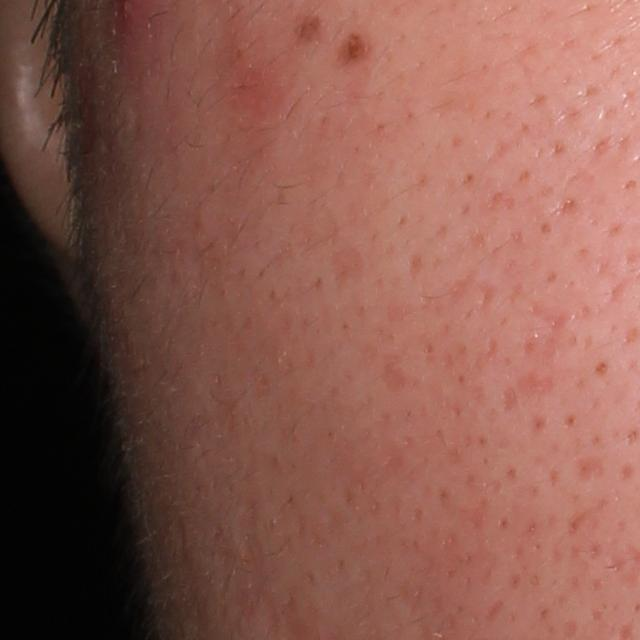atrophic_scar: (516, 362, 564, 405), (570, 453, 604, 487), (407, 250, 424, 278)
nevus: (341, 32, 374, 68), (293, 12, 321, 45)
